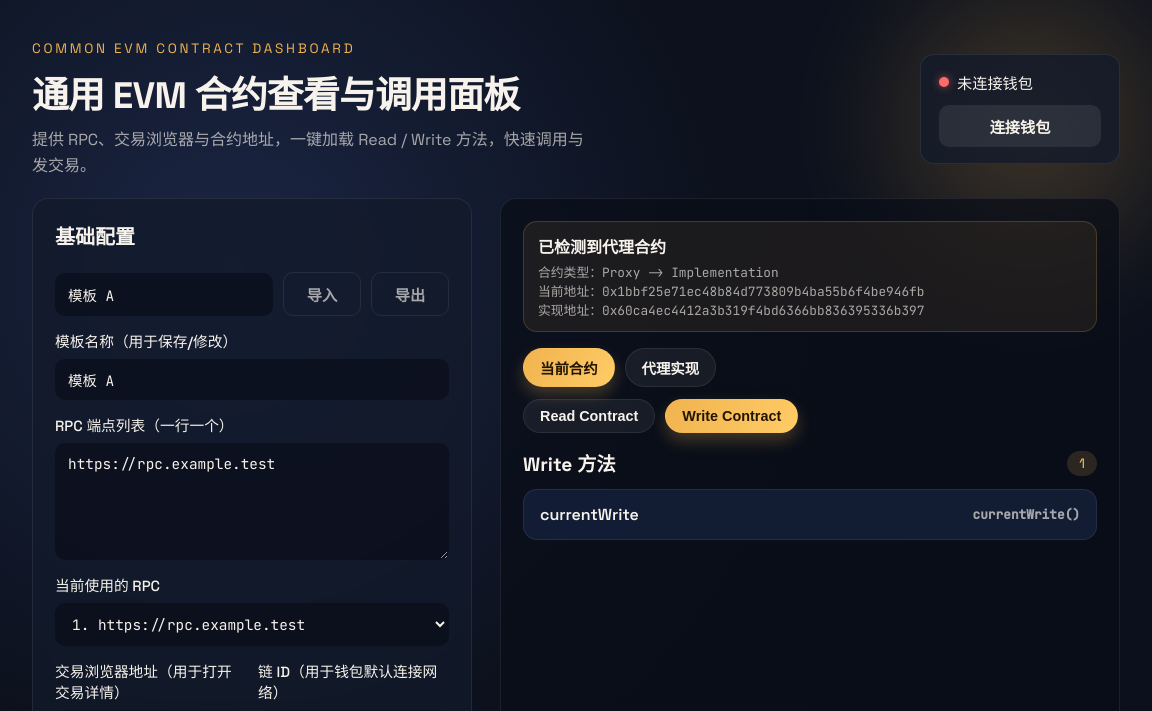
Test: App URL selection › clears the template parameter when the selected template is deleted
Expected: the text "currentWrite" is shown, [540,504,639,525]
Click the button "模板 A": (164, 294) [55,273,273,316]
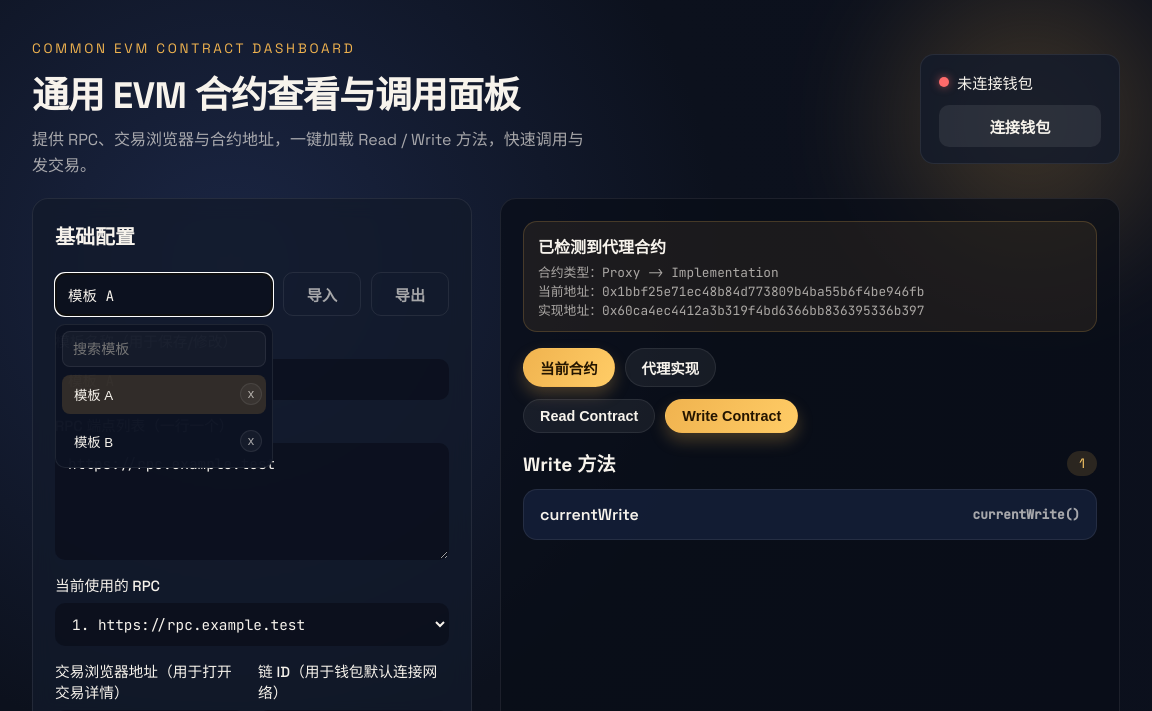
Click the 1st button titled "删除模板": (251, 394) [240,383,262,405]
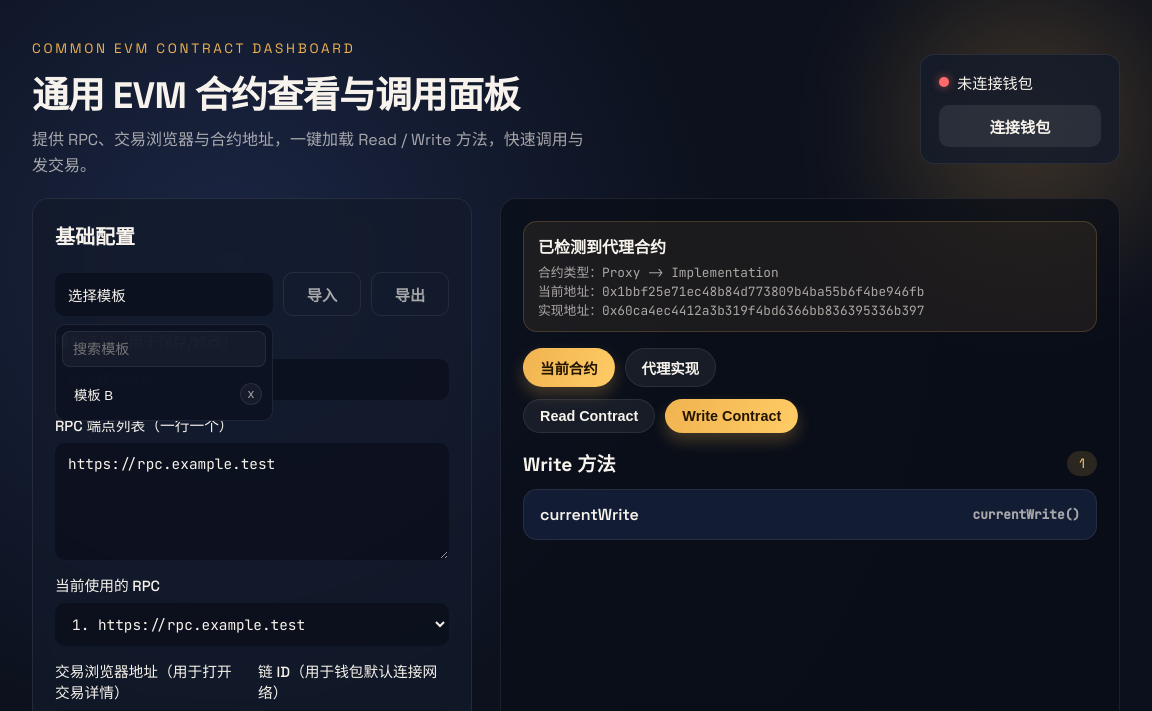
Expected: the button "选择模板" is shown, [55,273,273,316]
